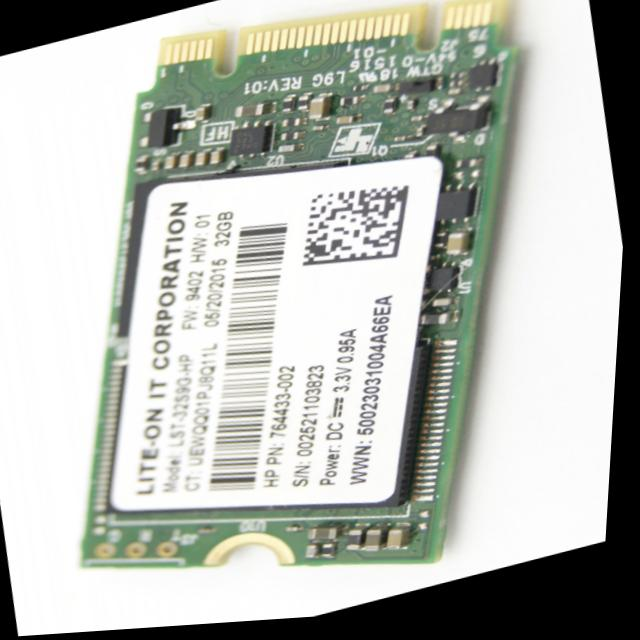datamatrix: (293, 177, 426, 286)
